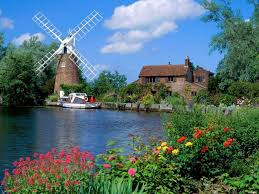flower: (4, 148, 105, 189), (145, 124, 246, 165)
house: (135, 64, 221, 116)
lake: (9, 106, 173, 154)
sky: (62, 4, 232, 65)
tree: (211, 15, 259, 113), (1, 19, 47, 117)
